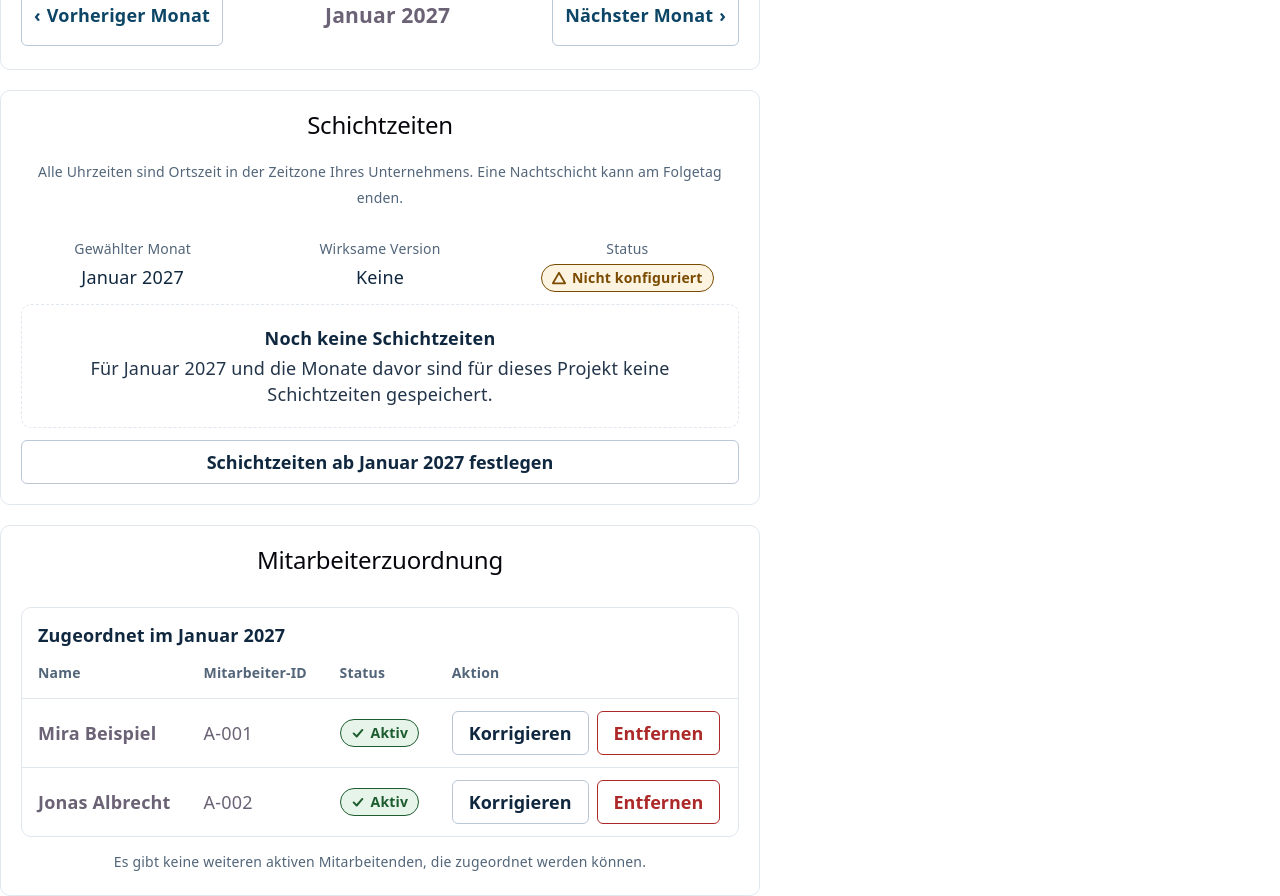
Test: #73 — inline confirmation bound to the displayed row › no double DELETE: while the request runs both buttons are disabled
(page scrolled)
Click the button with aria-label "Zuordnung von Mira Beispiel entfernen" at (658, 733), box [596,711,720,755]
(page scrolled)
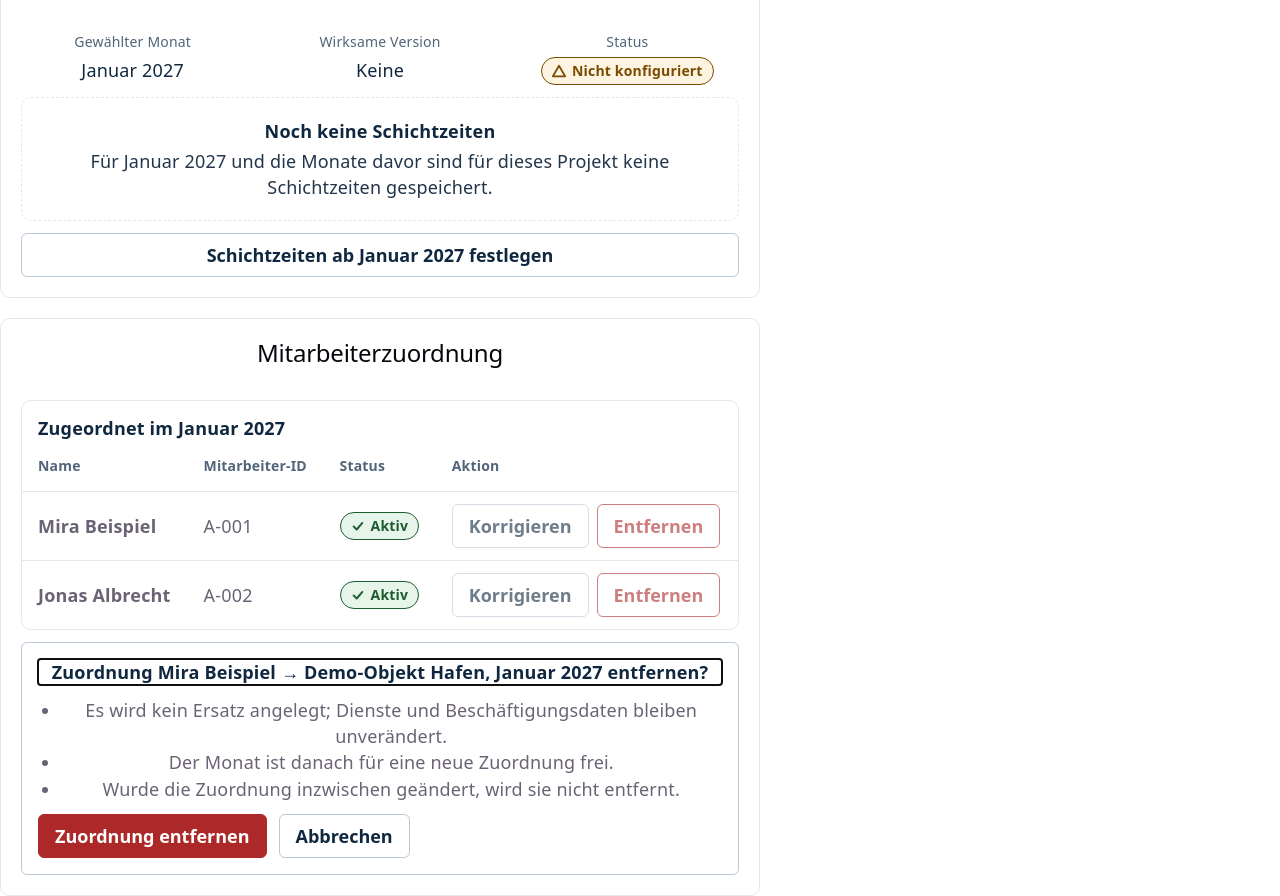
Click the button "Zuordnung entfernen" at (152, 836), box [38,814,266,858]
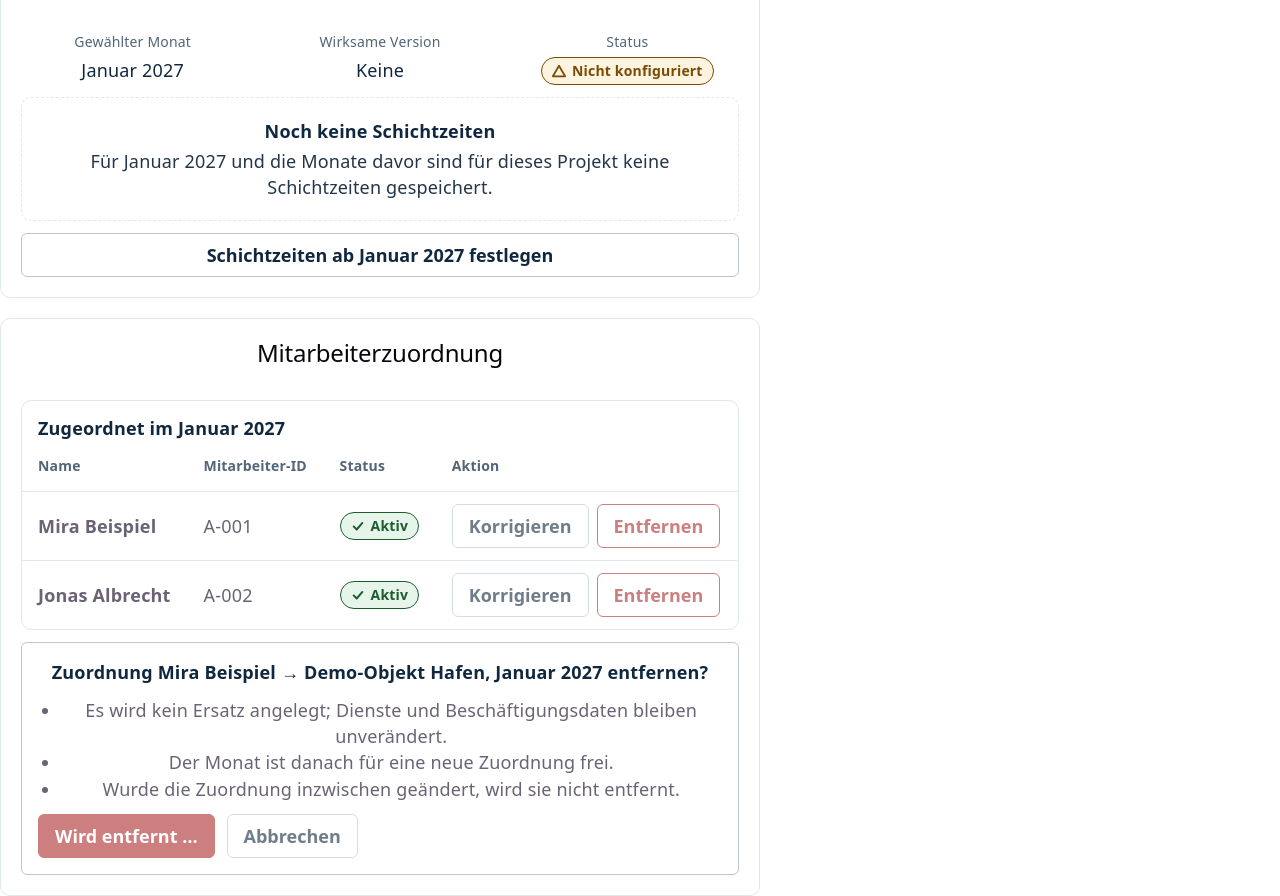
Now the button "Wird entfernt …" is disabled
Now the button "Abbrechen" is disabled, box [226,814,358,858]
Double-click the button "Wird entfernt …" at (126, 836), box [38,814,214,858]
(page scrolled)
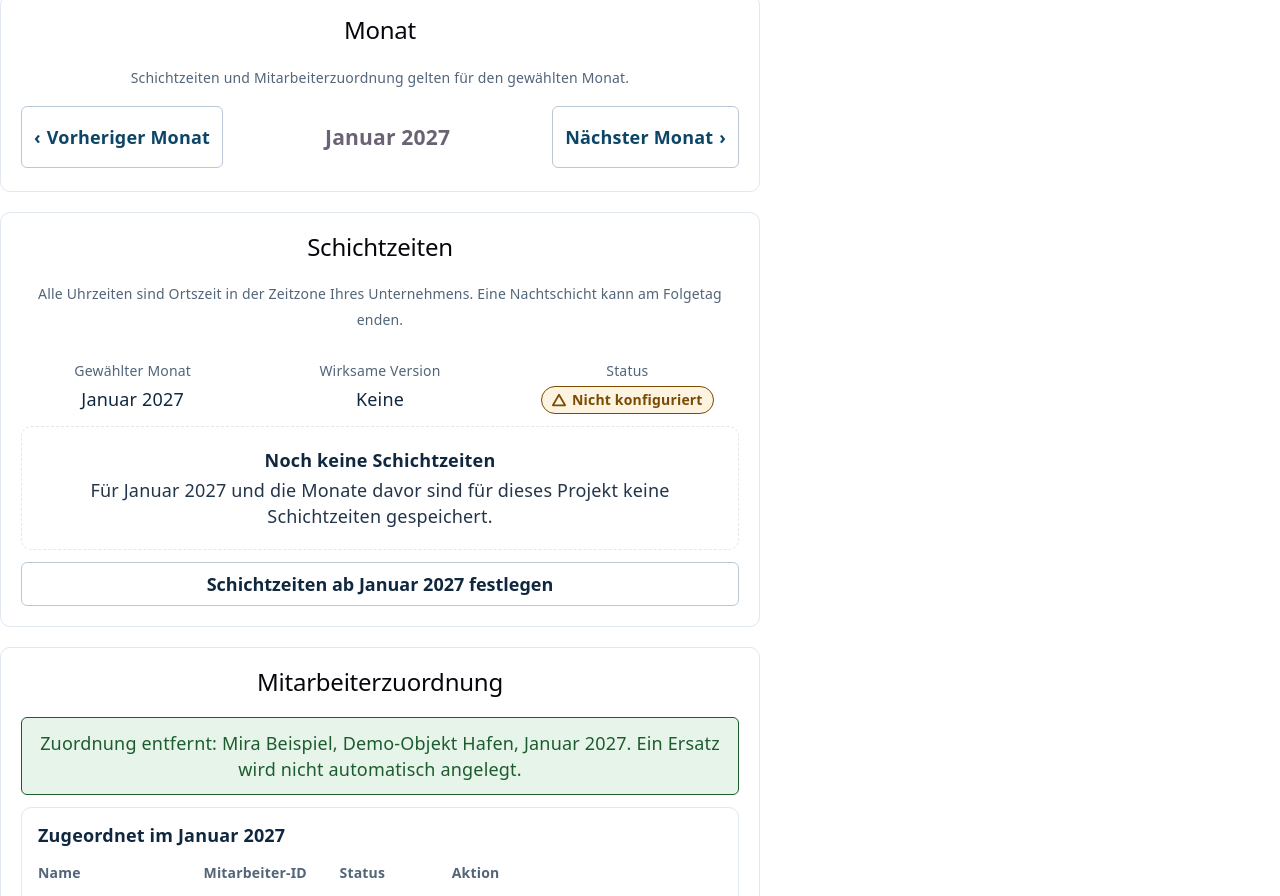
Now the text "Zuordnung entfernt: Mira Beispiel" is shown, box [40,731,720,781]
